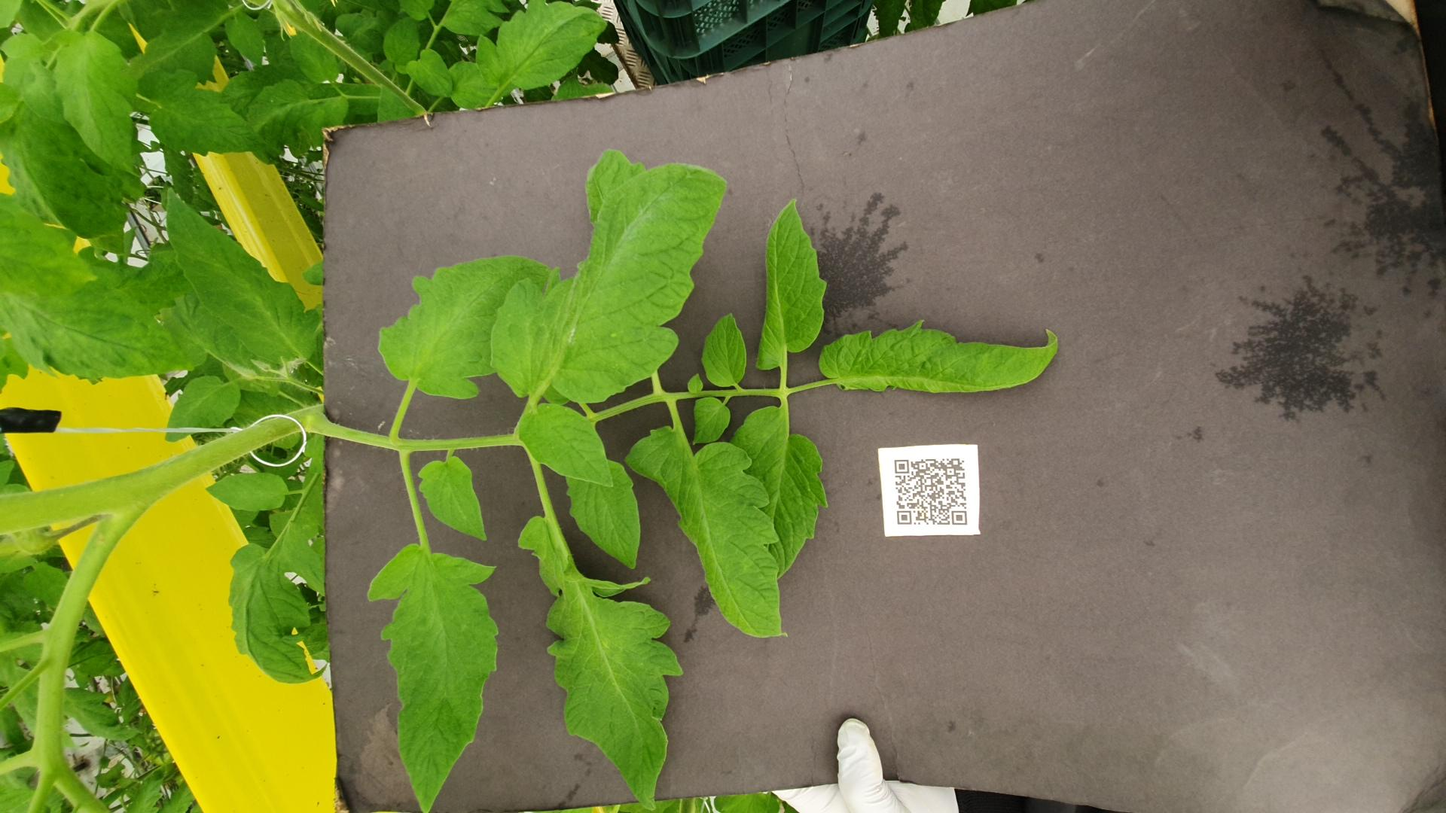Healthy: (724, 274, 1191, 410), (20, 290, 532, 384), (1, 205, 479, 282), (300, 351, 692, 441), (803, 90, 1115, 181), (731, 212, 995, 311), (731, 461, 874, 600), (1245, 252, 1446, 343), (782, 421, 1101, 467), (228, 125, 480, 183), (1136, 29, 1398, 79), (1167, 83, 1324, 152), (427, 318, 630, 363), (580, 290, 729, 348), (486, 235, 644, 274), (658, 93, 780, 136), (536, 115, 614, 163), (759, 394, 891, 422), (1323, 125, 1424, 149), (1271, 228, 1358, 255), (652, 387, 740, 412)
